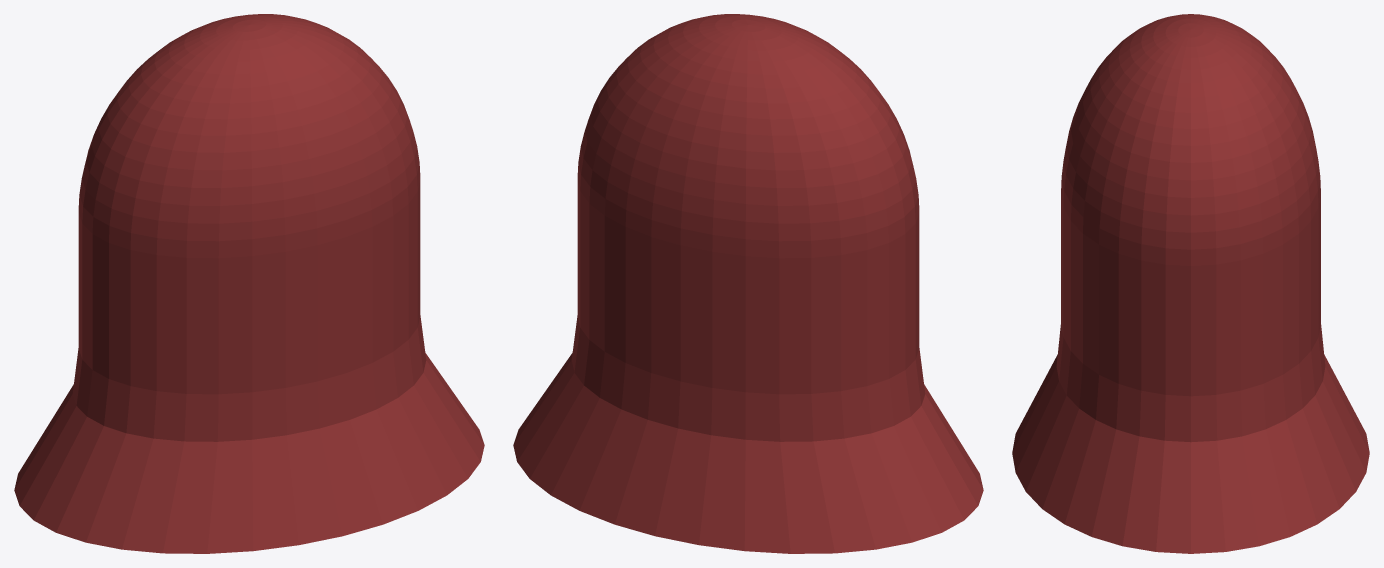
File: dome.dae
3 renders of one model, left to right at view 1: azimuth 30°, elevation 25°; view 2: azimuth 150°, elevation 25°; view 3: azimuth 270°, elevation 25°, orthographic. The views are drawn at different scales.
Parts seen in each view (by area): view 1: Sphere_001; view 2: Sphere_001; view 3: Sphere_001.
Boxes of the visible parts, x1,y1,x2,y2 form: Sphere_001: (14, 14, 484, 553); Sphere_001: (513, 14, 983, 553); Sphere_001: (1012, 14, 1369, 553).
Bounding box in the file's own units: 0.9309 × 0.6982 × 0.9126.
